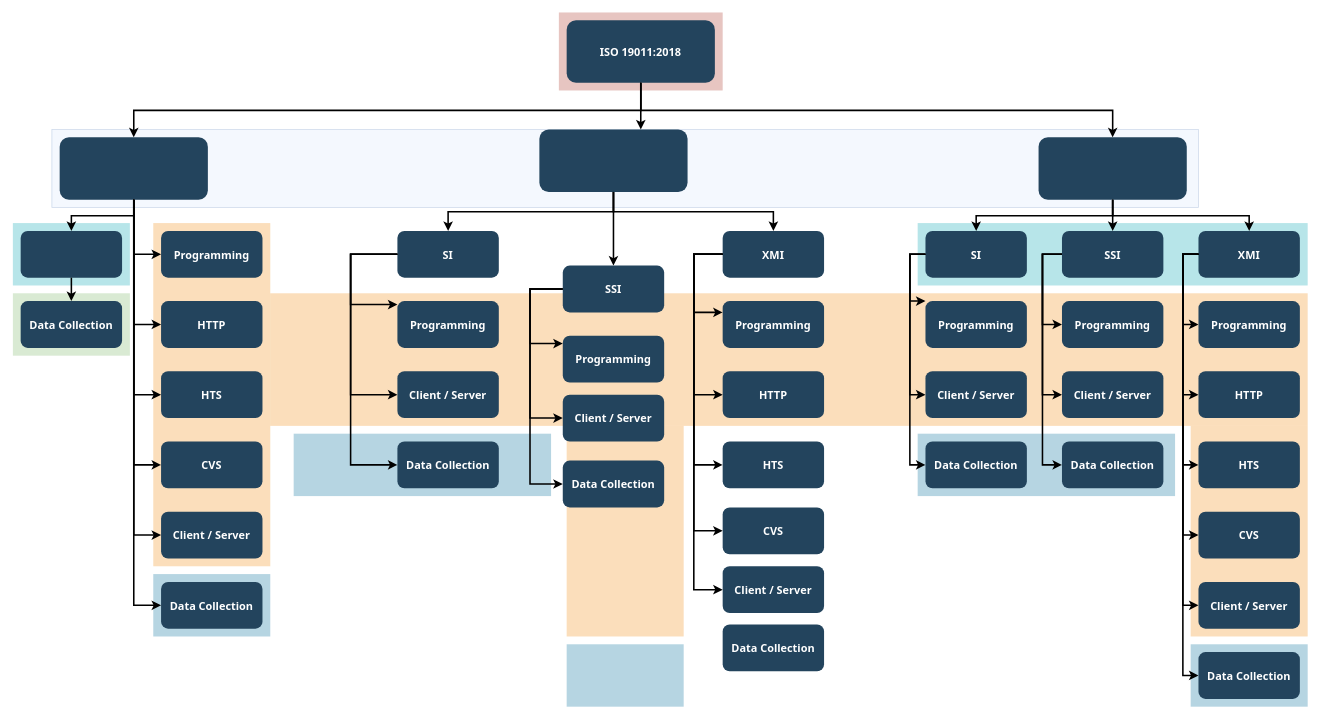
The diagram is 1321 pixels wide and 719 high, and some of its shapes have lost their labels. Each missing label, with the box of its shape:
Definiciones: (539, 129, 687, 191)
Principios: (1038, 137, 1186, 199)
Regular Report: (20, 230, 122, 277)
Terminos: (59, 137, 207, 199)
